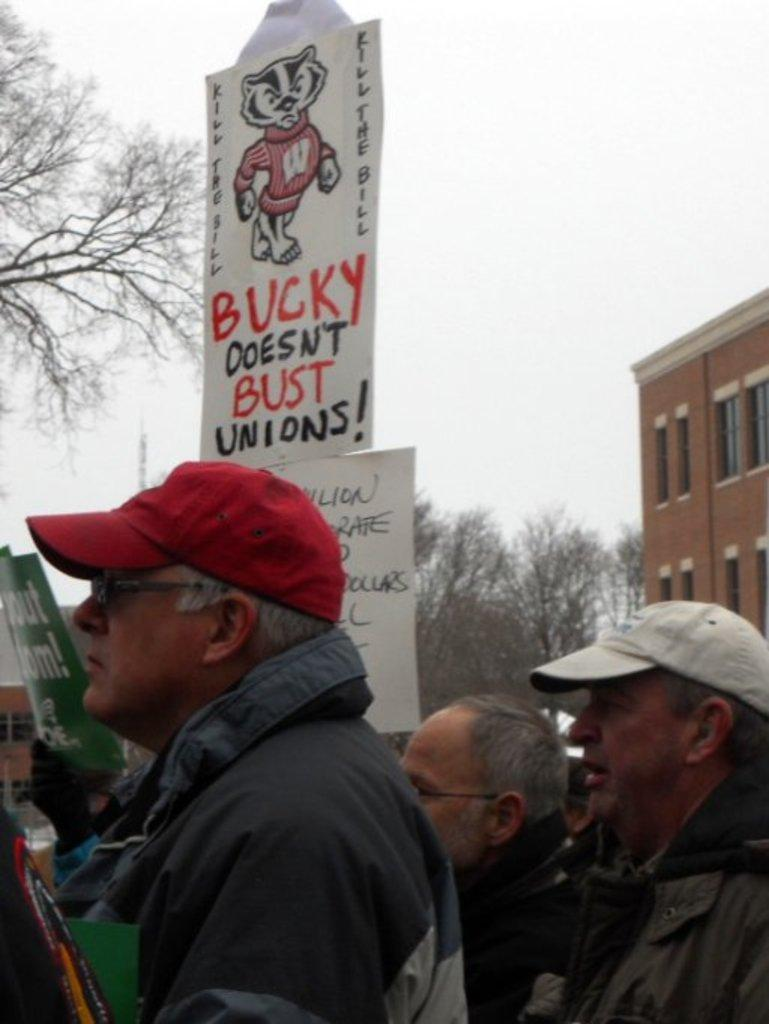Hat: (25, 452, 342, 622), (530, 596, 766, 718)
